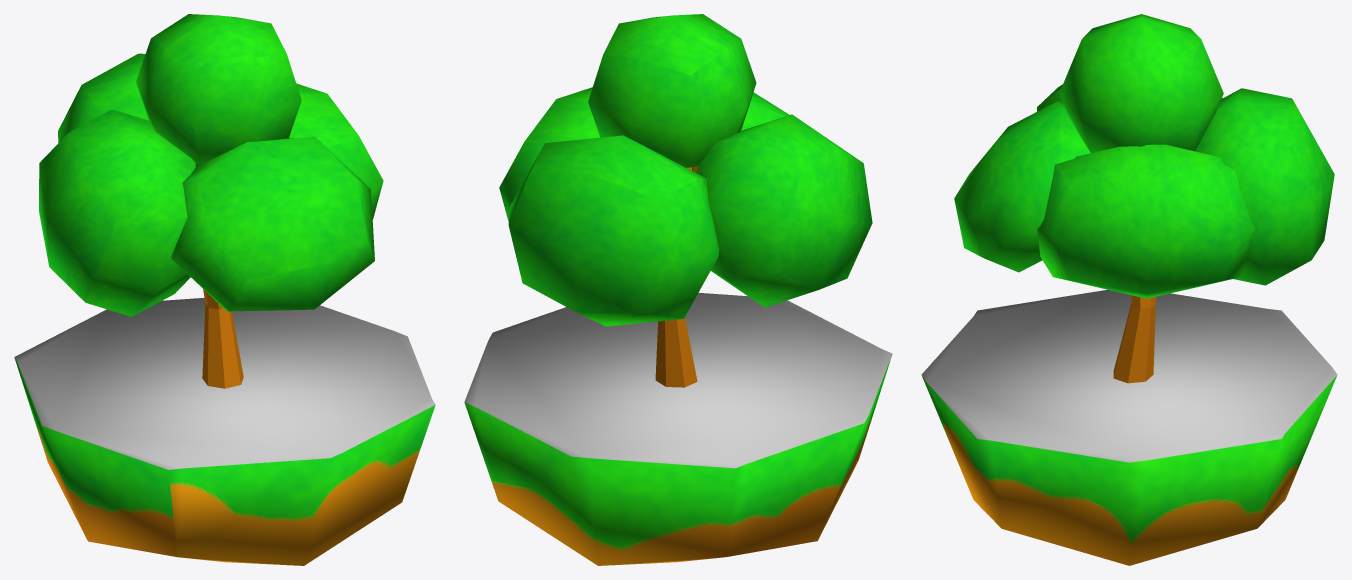
File: titleTuree.obj
3 views of the same model, side by side, from view 1: azimuth 30°, elevation 25°; view 2: azimuth 150°, elevation 25°; view 3: azimuth 270°, elevation 25° (orthographic). The views are drawn at different scales.
Visible parts, largest first — view 1: 土, もっこり, 枝; view 2: 土, もっこり, 枝; view 3: 土, もっこり, 枝.
Boxes of the visible parts, x1,y1,x2,y2 form: 土: (14,298,435,565); もっこり: (39,14,383,316); 枝: (202,289,243,388); 土: (464,292,892,565); もっこり: (499,14,872,326); 枝: (655,166,698,387); 土: (921,289,1337,565); もっこり: (954,14,1334,298); 枝: (1113,295,1155,383).
Bounding box in the file's own units: 10.35 × 14.67 × 10.35.
